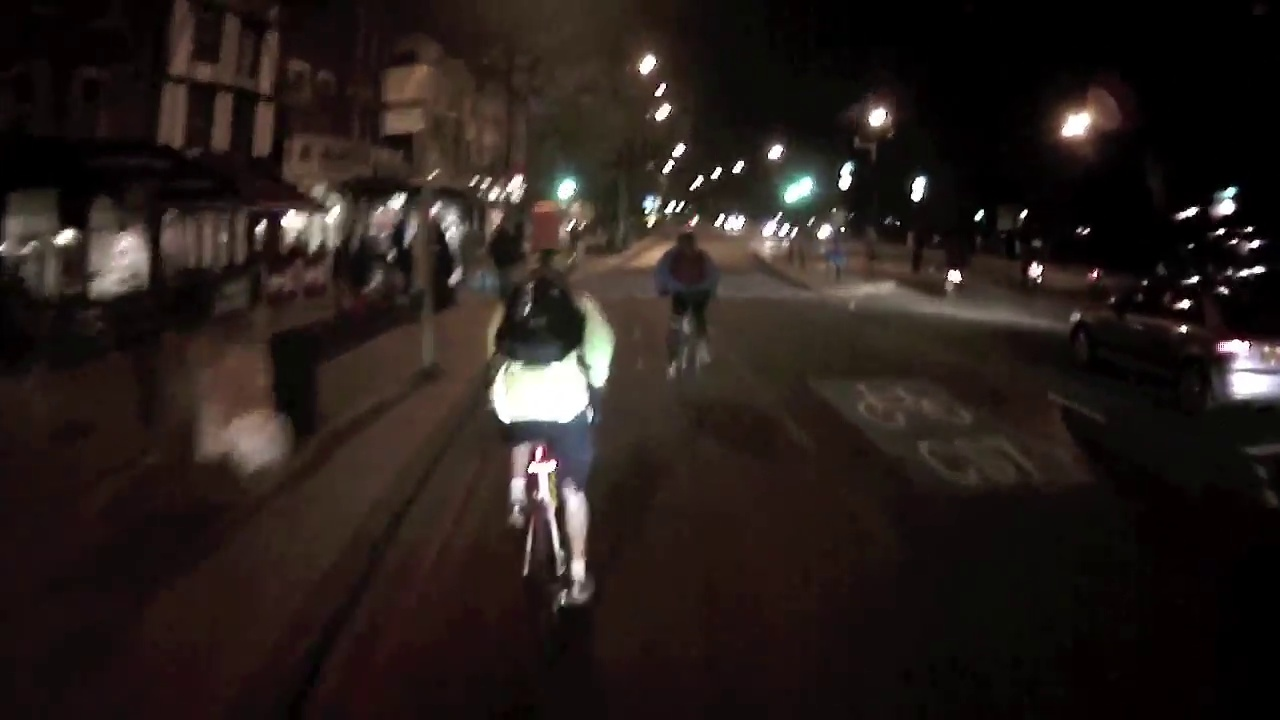cyclist_back: (480, 244, 618, 617), (647, 228, 728, 405)
